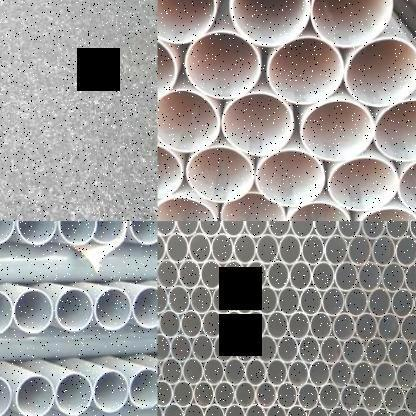pipe: (266, 36, 343, 106), (184, 31, 262, 100), (344, 37, 416, 107), (222, 92, 294, 156), (300, 100, 375, 161), (327, 156, 400, 212), (256, 149, 326, 207), (186, 146, 254, 204), (158, 89, 220, 152), (229, 0, 311, 47), (311, 0, 393, 46), (374, 98, 416, 160), (157, 0, 217, 43), (221, 192, 286, 222), (14, 289, 54, 334), (54, 288, 94, 332), (93, 288, 132, 330), (15, 374, 54, 416), (55, 373, 93, 416), (93, 370, 129, 414), (158, 197, 216, 221), (158, 143, 182, 199), (285, 202, 351, 221), (158, 33, 176, 101), (128, 368, 158, 408), (132, 286, 158, 330), (398, 155, 416, 214), (16, 221, 58, 245), (58, 221, 97, 245), (353, 208, 416, 221), (347, 234, 372, 266), (358, 260, 382, 292), (188, 232, 212, 264), (334, 260, 358, 292), (301, 234, 325, 266), (324, 234, 348, 266), (311, 260, 335, 292), (367, 287, 391, 318), (371, 235, 395, 266), (382, 261, 406, 292), (92, 221, 124, 244), (200, 258, 223, 290), (178, 258, 201, 290), (256, 233, 279, 265), (394, 234, 416, 267), (344, 287, 368, 317), (376, 312, 400, 342), (190, 284, 213, 315), (222, 259, 245, 290), (278, 234, 301, 265), (289, 260, 312, 291), (245, 259, 268, 290), (210, 233, 233, 264), (212, 284, 234, 316), (166, 232, 188, 264), (234, 284, 256, 316), (321, 287, 345, 316), (354, 312, 378, 341), (332, 312, 356, 341), (309, 311, 333, 340), (391, 288, 414, 318), (387, 337, 410, 367), (373, 360, 396, 390), (266, 260, 289, 290), (308, 358, 331, 388), (234, 233, 256, 264), (130, 221, 158, 245), (364, 337, 387, 366), (342, 336, 365, 365), (168, 285, 191, 314), (255, 286, 278, 315), (158, 309, 181, 338), (300, 286, 322, 316), (278, 286, 300, 316), (224, 309, 246, 339), (256, 334, 278, 364), (277, 334, 299, 364), (288, 310, 310, 340), (266, 310, 288, 340), (180, 309, 202, 339), (224, 356, 246, 386), (287, 358, 309, 388), (182, 356, 204, 386), (202, 356, 224, 386), (202, 309, 224, 339), (330, 360, 353, 388), (298, 335, 320, 364), (352, 360, 374, 389), (244, 310, 266, 339), (266, 358, 288, 387), (340, 383, 362, 412), (160, 356, 182, 385), (318, 382, 340, 411), (158, 258, 178, 289), (320, 336, 342, 364), (192, 334, 214, 362), (213, 334, 235, 362), (170, 334, 192, 362), (383, 385, 405, 413), (297, 382, 319, 410), (362, 384, 384, 412), (193, 380, 215, 408), (234, 380, 256, 408), (235, 334, 256, 363), (395, 361, 416, 390), (0, 290, 13, 336), (276, 381, 298, 408), (245, 358, 266, 386), (214, 380, 235, 408), (173, 380, 194, 408), (256, 380, 276, 408), (400, 312, 416, 344), (361, 221, 386, 239), (336, 221, 362, 238), (0, 376, 11, 416), (385, 221, 409, 239), (313, 221, 337, 239), (158, 378, 172, 408), (290, 221, 314, 238), (266, 221, 290, 237), (198, 221, 222, 237), (245, 221, 268, 237), (221, 221, 244, 237), (0, 221, 15, 245), (404, 262, 416, 292), (175, 221, 199, 236), (158, 333, 170, 362), (404, 384, 416, 412), (162, 402, 184, 416), (158, 284, 168, 314), (224, 403, 245, 416), (204, 403, 225, 416), (183, 403, 204, 416), (245, 403, 266, 416), (158, 221, 176, 236), (266, 403, 286, 416), (286, 404, 307, 416), (328, 405, 350, 416), (158, 232, 166, 262), (307, 405, 328, 416), (409, 338, 416, 367), (370, 407, 392, 416), (350, 407, 370, 416), (392, 408, 413, 416), (409, 221, 416, 239), (413, 288, 416, 318)
